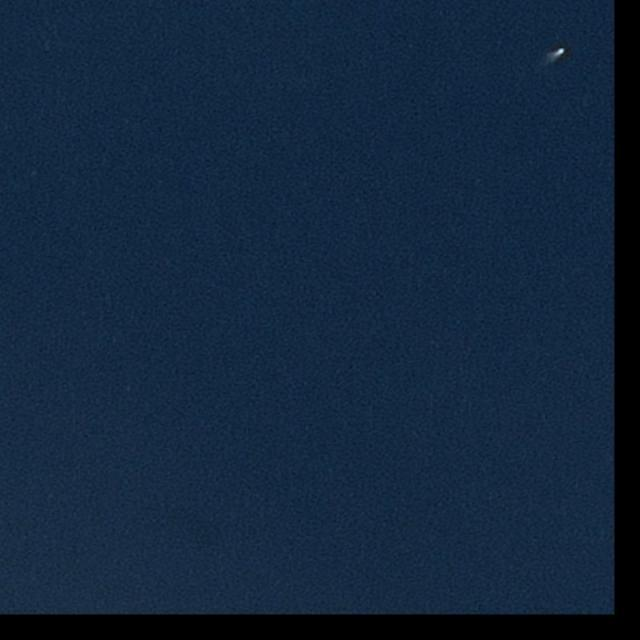ship: (553, 47, 566, 58)
